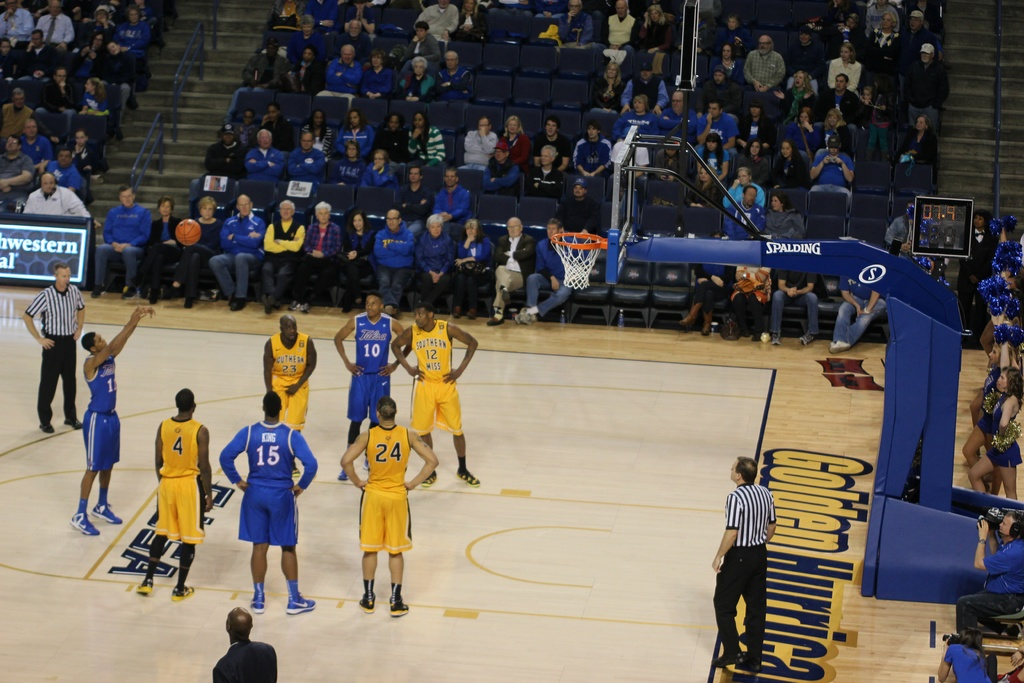Ball: (176, 218, 202, 245)
